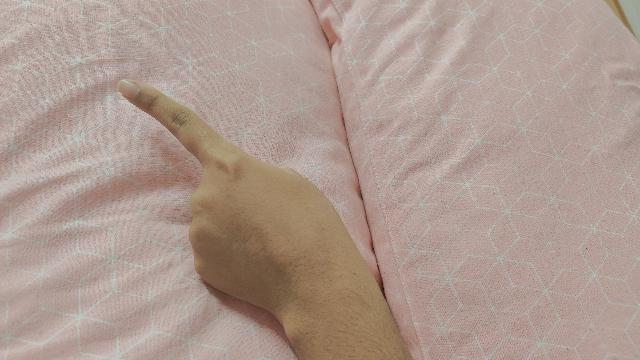soochi: (116, 80, 415, 360)
